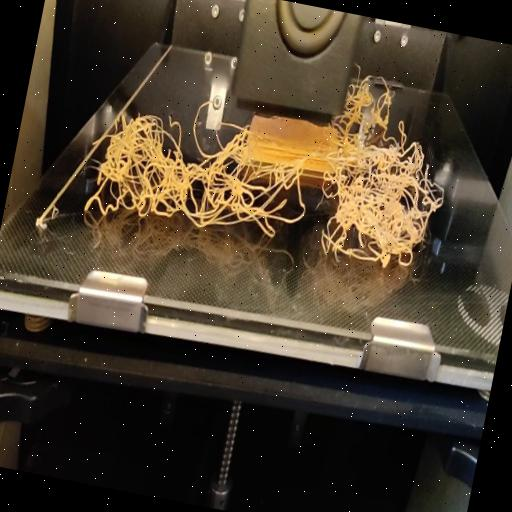spaghetti: (76, 82, 453, 287), (339, 56, 429, 144)
